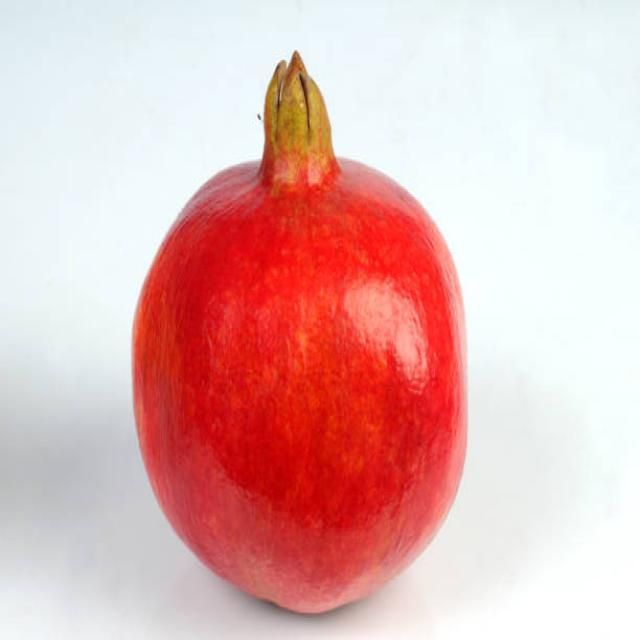Ripe: (124, 46, 473, 620)
